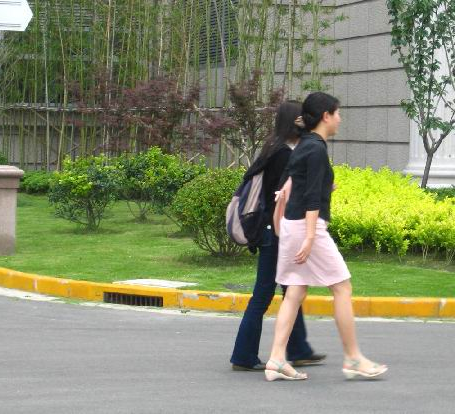pedestrian: (264, 92, 388, 380)
